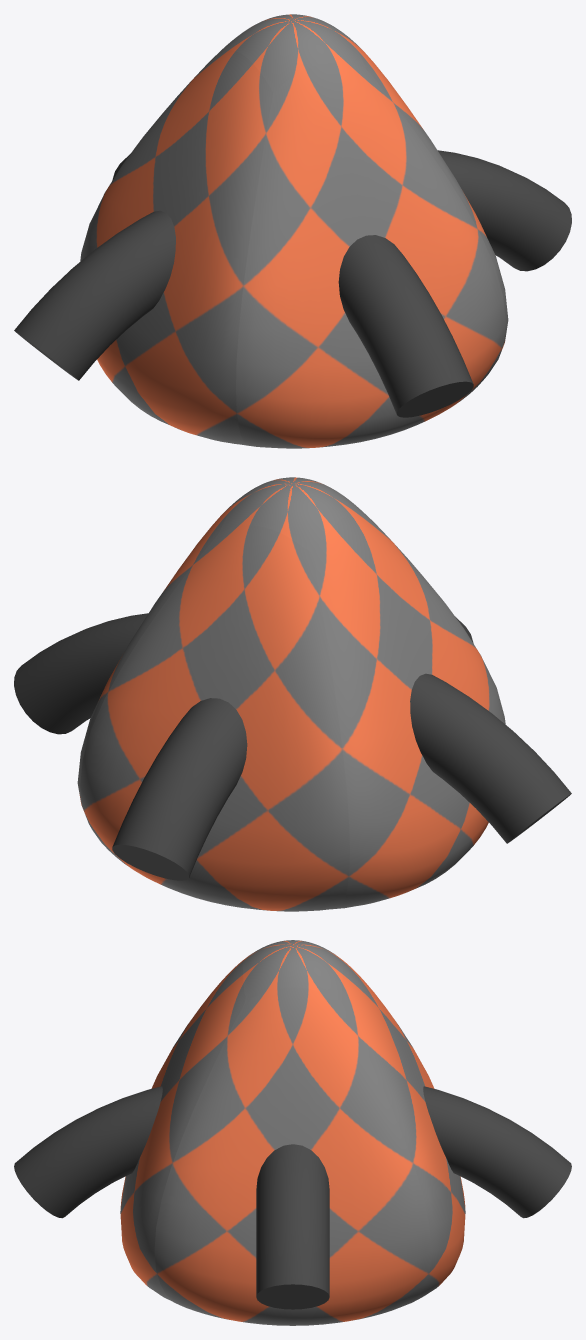
File: Body(Pyramidal)+Colour(More_Orange)+Arms(Bent_Down)+Pattern(Diamond).fbx
The picture shows the model from 3 angles, top to bottom: view 1: azimuth 30°, elevation 25°; view 2: azimuth 150°, elevation 25°; view 3: azimuth 270°, elevation 25°; orthographic projection. The views are drawn at different scales.
Visible parts, largest first — view 1: Body(Pyramidal)+Colour(More_Orange)+Arms(Bent_Down)+Pattern( (×4); view 2: Body(Pyramidal)+Colour(More_Orange)+Arms(Bent_Down)+Pattern( (×4); view 3: Body(Pyramidal)+Colour(More_Orange)+Arms(Bent_Down)+Pattern( (×4).
Boxes of the visible parts, x1,y1,x2,y2 form: Body(Pyramidal)+Colour(More_Orange)+Arms(Bent_Down)+Pattern( (×4): (14, 14, 571, 448); Body(Pyramidal)+Colour(More_Orange)+Arms(Bent_Down)+Pattern( (×4): (14, 477, 571, 911); Body(Pyramidal)+Colour(More_Orange)+Arms(Bent_Down)+Pattern( (×4): (14, 940, 571, 1325).
Size of the model in its own units: 60.67 by 40 by 60.67.
2 materials, 2 textured.
